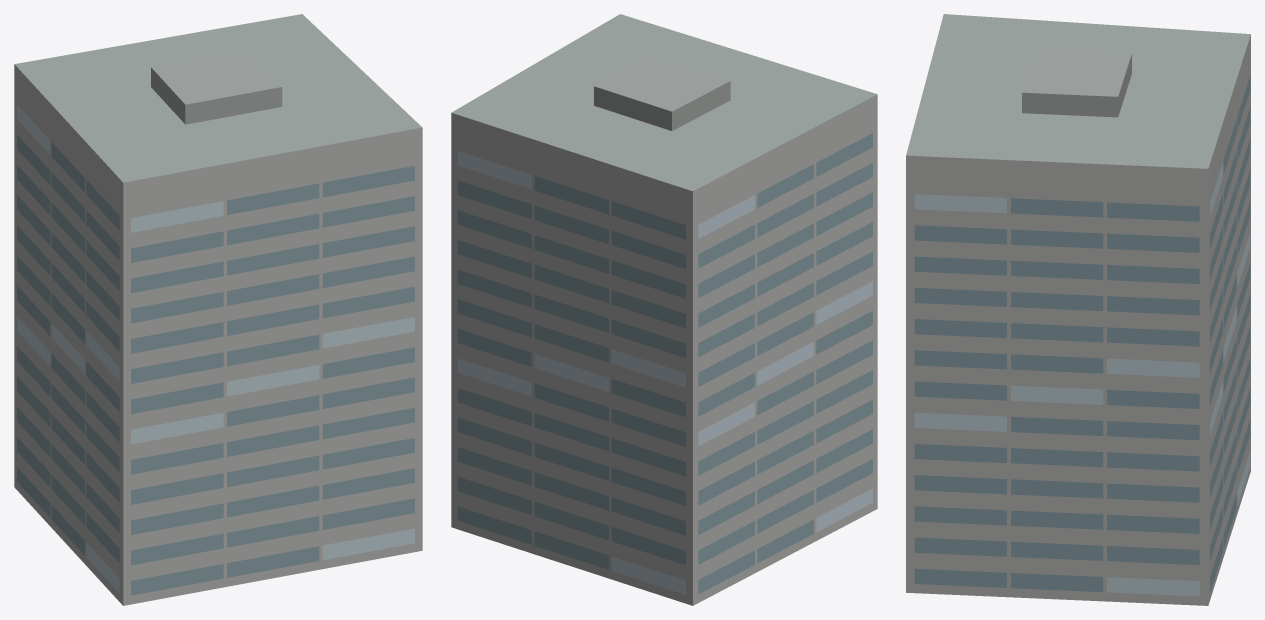
The model's file is apt-a10023934.glb.
3 renders of one model, left to right at view 1: azimuth 30°, elevation 25°; view 2: azimuth 150°, elevation 25°; view 3: azimuth 270°, elevation 25°, orthographic. The views are drawn at different scales.
Visible parts, largest first — view 1: apt-a10023934; view 2: apt-a10023934; view 3: apt-a10023934.
Boxes of the visible parts, box(x1,y1,x2,y2) form: apt-a10023934: box(14, 14, 422, 605); apt-a10023934: box(451, 14, 877, 605); apt-a10023934: box(906, 14, 1250, 605).
Bounding box in the file's own units: 34.82 × 48 × 32.78.
